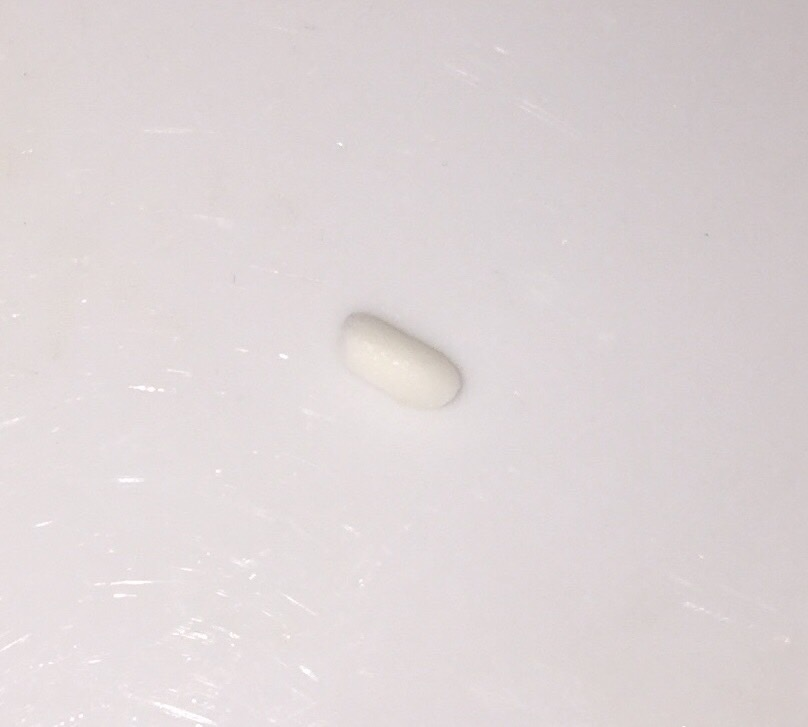Gao Nep Sap: (323, 295, 468, 415)
